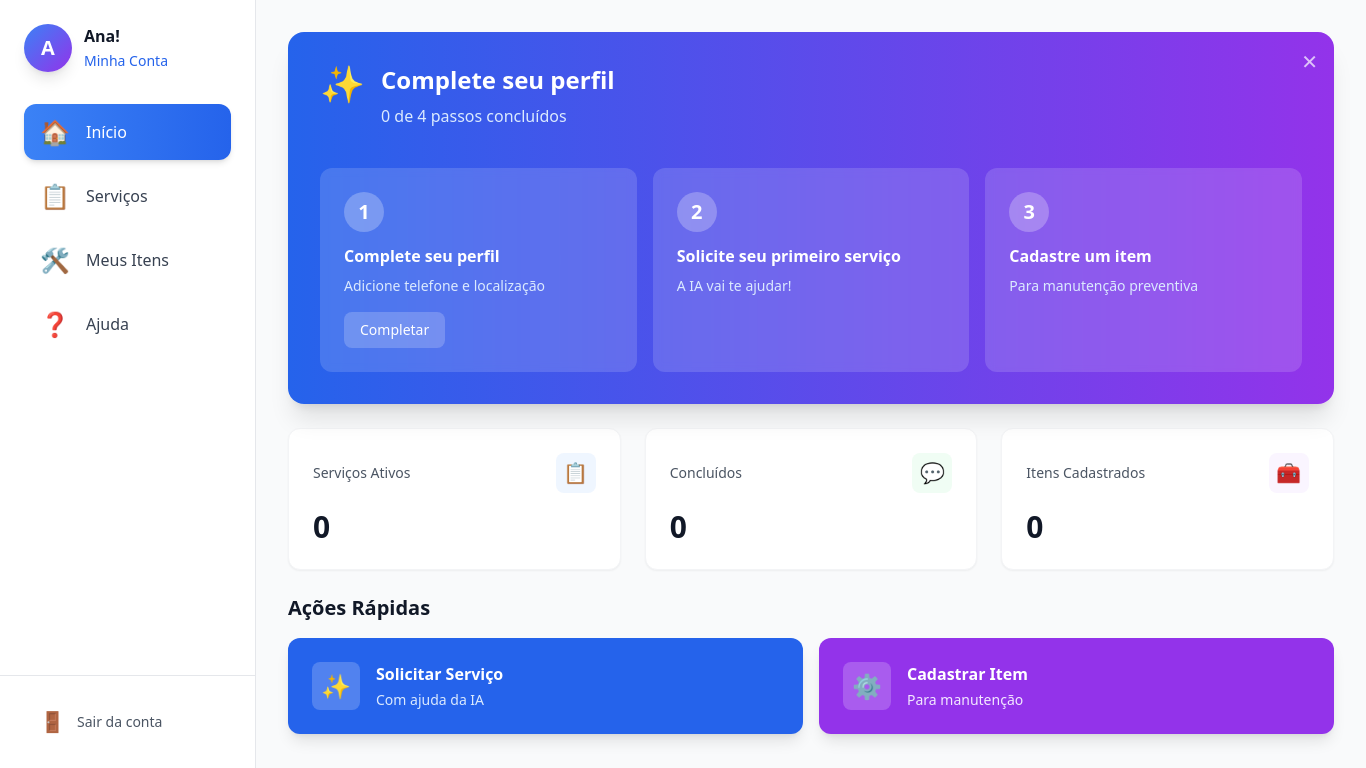
Scenario: ClientDashboard › alternância de tabs e estados vazios (serviços/itens/ajuda)
# Vai para Serviços
Click the button "📋 Serviços": click(128, 196) [24, 168, 231, 224]
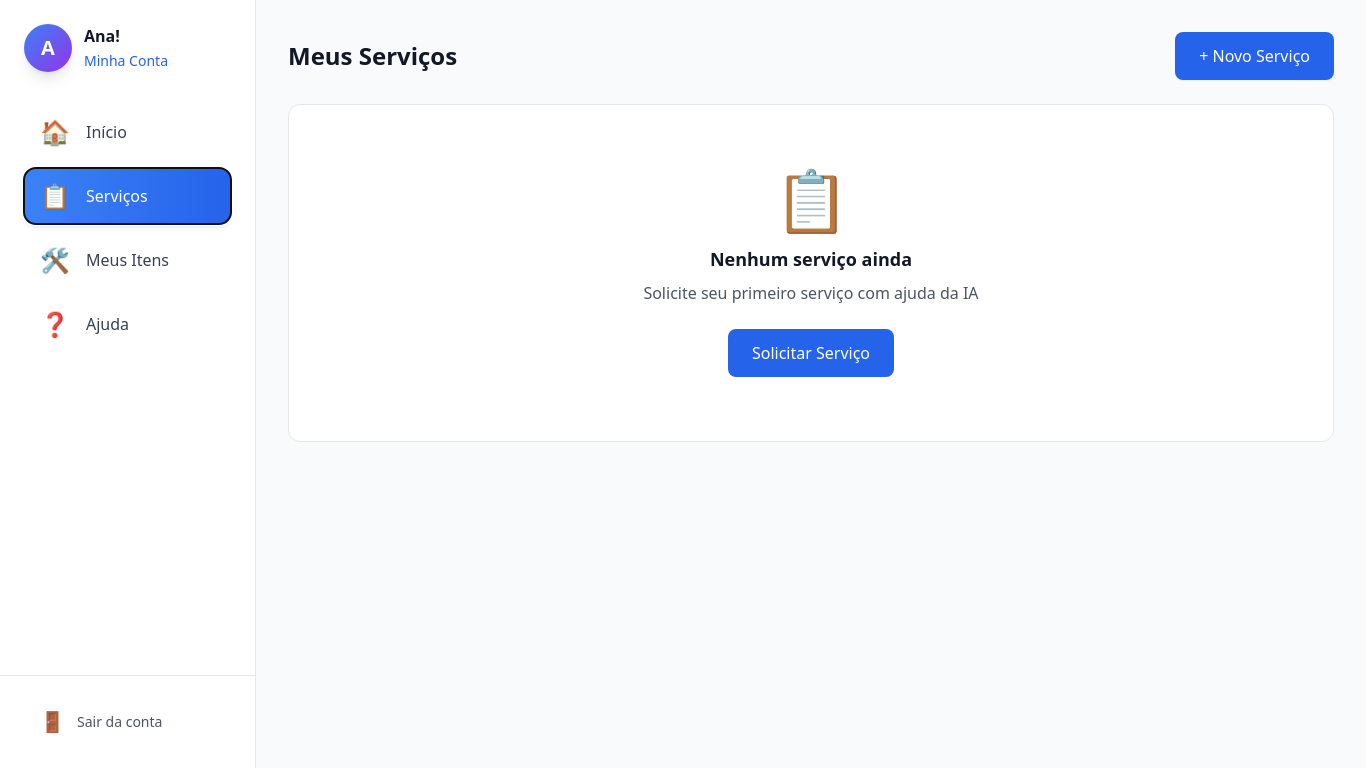
Result: the heading "Nenhum serviço ainda" is shown at [710, 247, 912, 271]
# Vai para Itens
Click the button "🛠️ Meus Itens": click(128, 260) [24, 232, 231, 288]
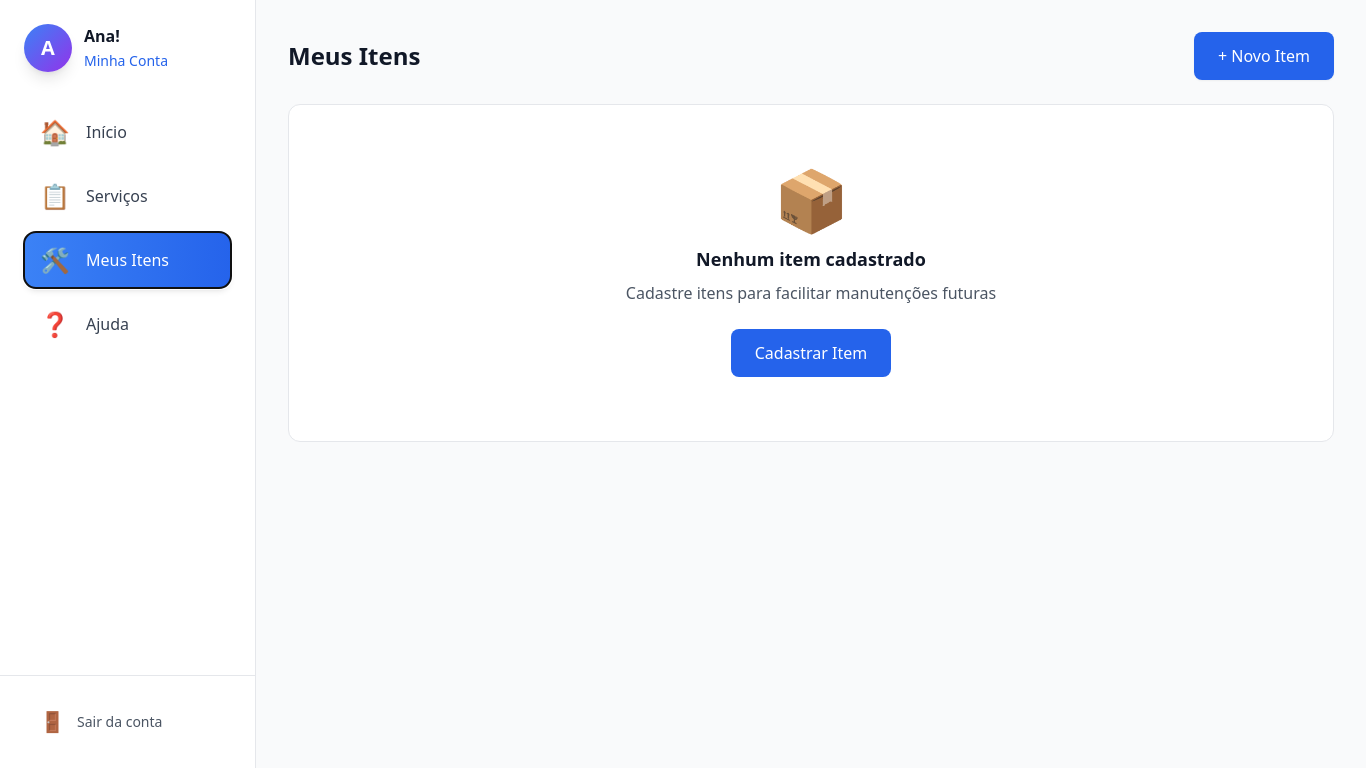
Result: the heading "Nenhum item cadastrado" is shown at [696, 247, 926, 271]
# Vai para Ajuda
Click the button "❓ Ajuda": click(128, 324) [24, 296, 231, 352]
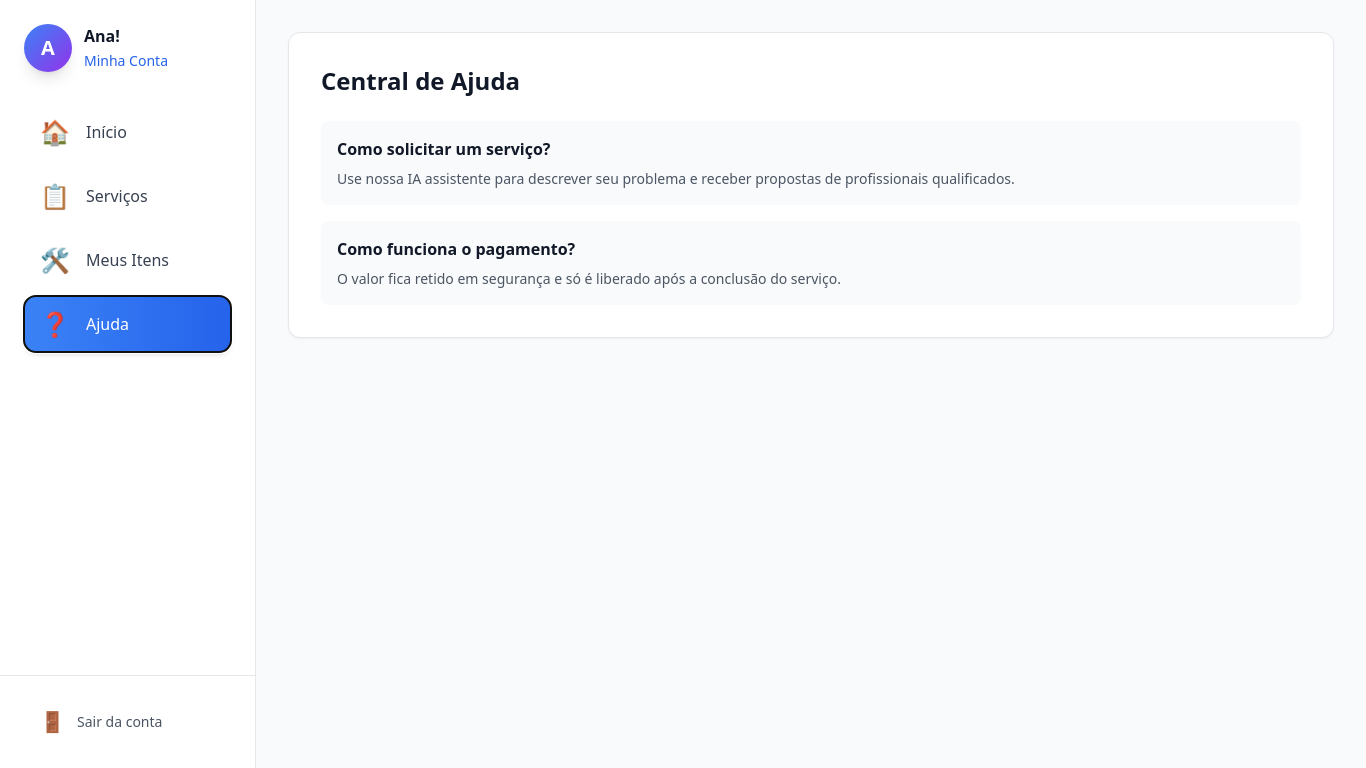
Result: the heading "Central de Ajuda" is shown at [321, 64, 520, 97]
